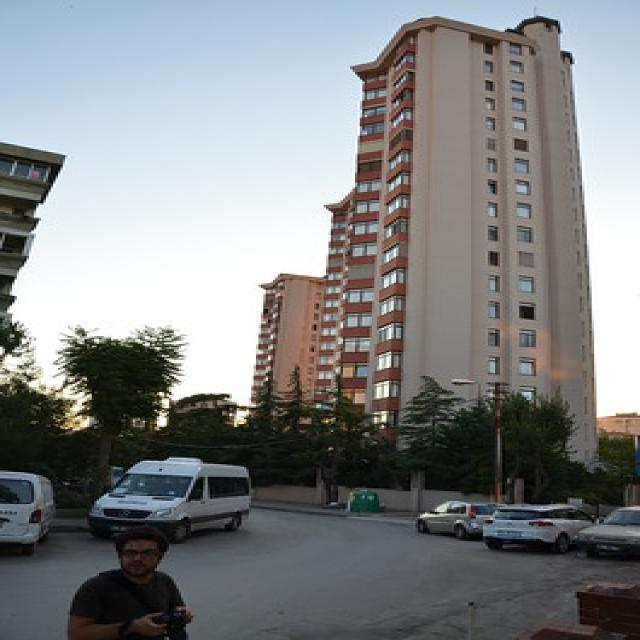building: (315, 9, 593, 498), (238, 271, 320, 444)
